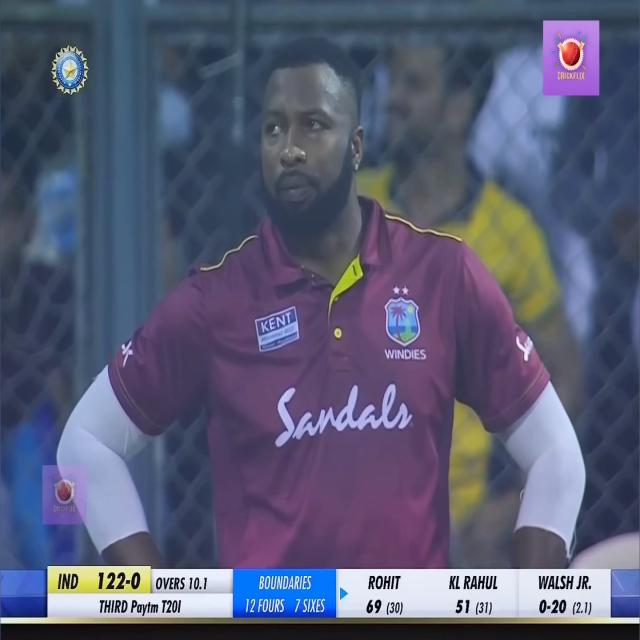fully_visible: (129, 593, 162, 617)
